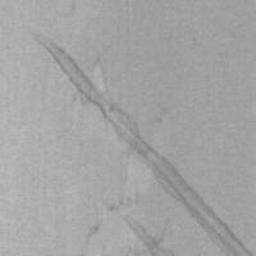Water spot: (35, 33, 256, 256), (125, 212, 180, 256)
